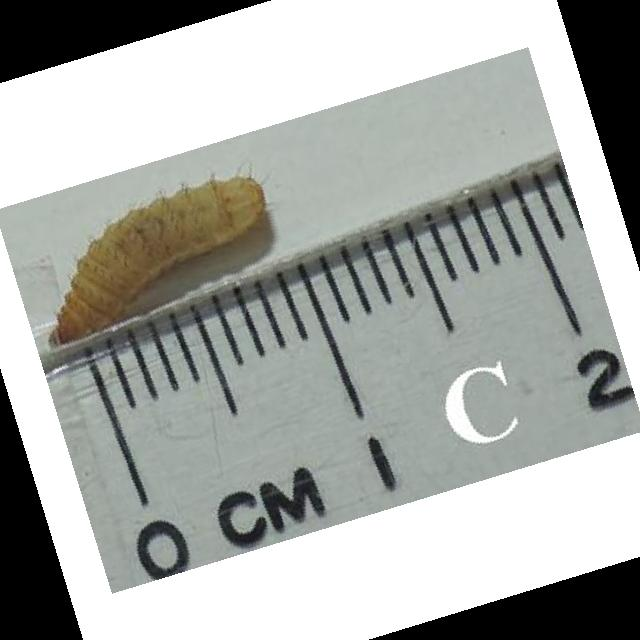Maggot: (47, 169, 268, 345)
